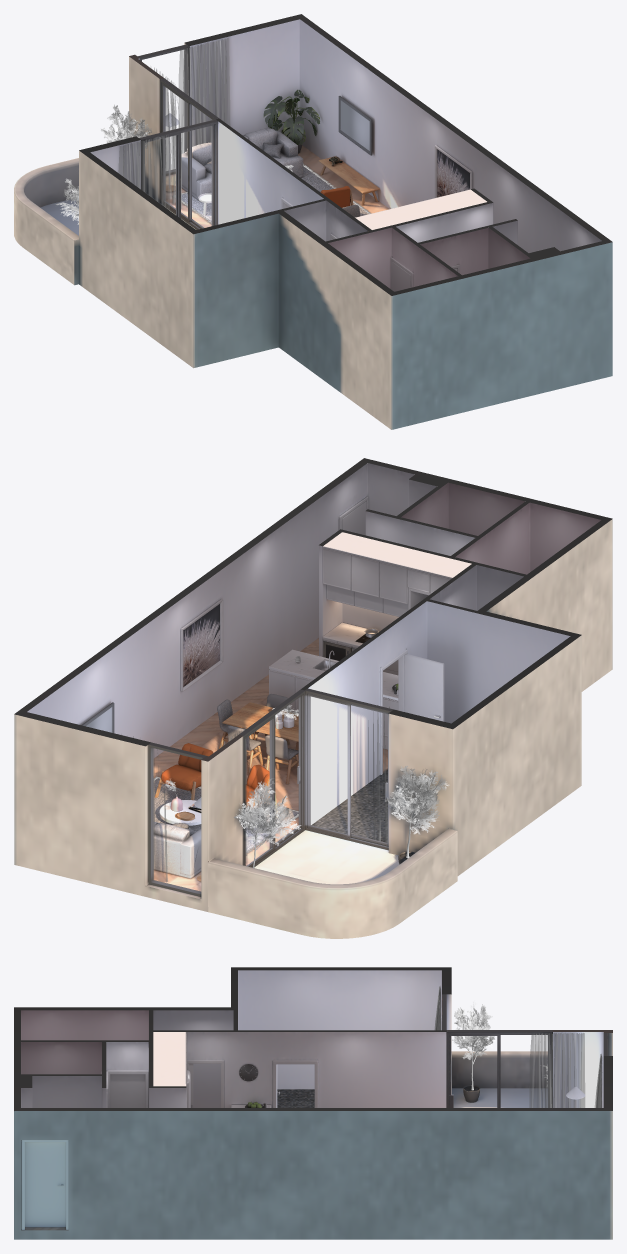
3 renders of one model, top to bottom at view 1: azimuth 30°, elevation 25°; view 2: azimuth 150°, elevation 25°; view 3: azimuth 270°, elevation 25°, orthographic. The views are drawn at different scales.
Parts seen in each view (by area): view 1: opaque_0, transparent_1; view 2: opaque_0, transparent_1; view 3: opaque_0, transparent_1.
Part boxes in pixels (x1,y1,x2,y2): opaque_0: (14, 14, 612, 429); transparent_1: (55, 38, 371, 224); opaque_0: (14, 458, 612, 938); transparent_1: (121, 656, 449, 882); opaque_0: (14, 967, 612, 1239); transparent_1: (434, 986, 602, 1107).
Size of the model in its own units: 7.34 by 3.02 by 12.65.
2 materials, 2 textured.
